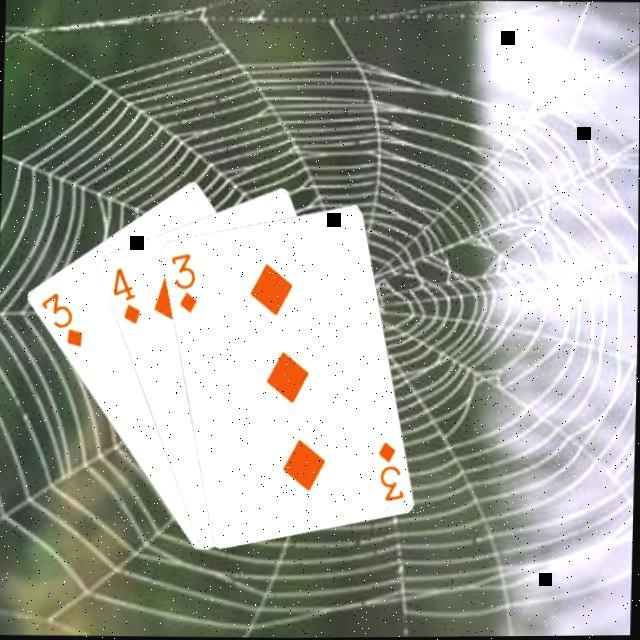3D: (34, 290, 86, 350), (372, 438, 408, 506), (164, 250, 200, 317)
4D: (108, 265, 143, 328)
